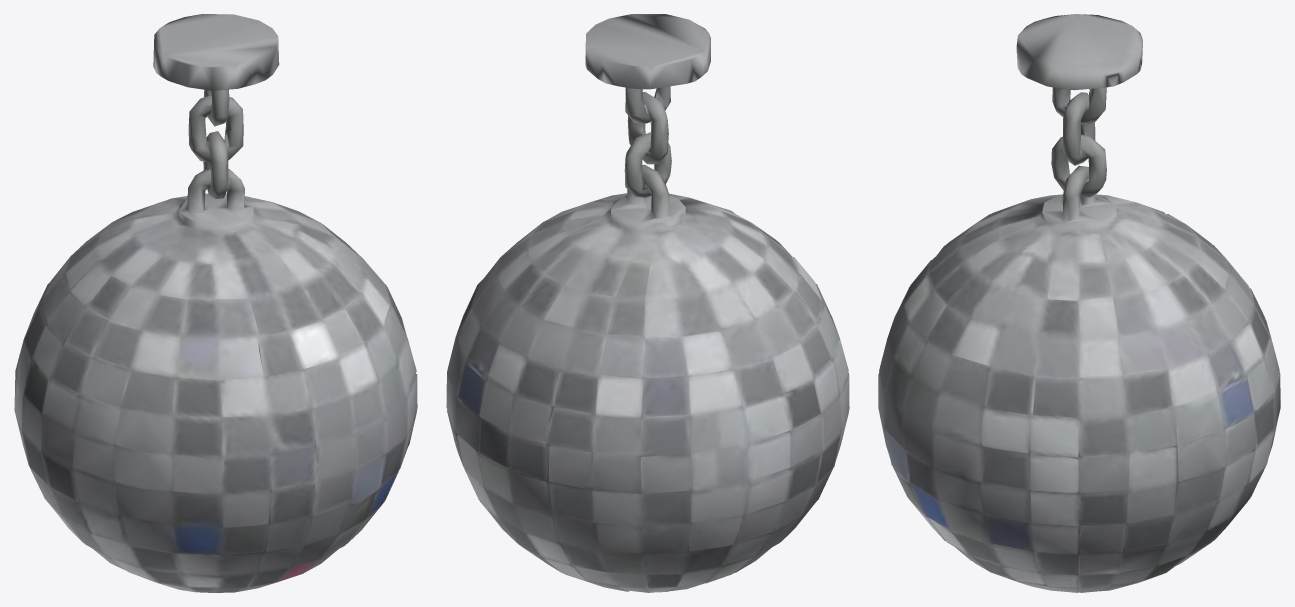
The model's file is disco.glb.
The picture shows the model from 3 angles, left to right: view 1: azimuth 30°, elevation 25°; view 2: azimuth 150°, elevation 25°; view 3: azimuth 270°, elevation 25°; orthographic projection.
Parts seen in each view (by area): view 1: tripo_node_3084397b-2f51-4864-bae0-e0c9825eadfb; view 2: tripo_node_3084397b-2f51-4864-bae0-e0c9825eadfb; view 3: tripo_node_3084397b-2f51-4864-bae0-e0c9825eadfb.
Boxes of the visible parts, x1,y1,x2,y2 form: tripo_node_3084397b-2f51-4864-bae0-e0c9825eadfb: (14, 14, 417, 592); tripo_node_3084397b-2f51-4864-bae0-e0c9825eadfb: (446, 14, 849, 592); tripo_node_3084397b-2f51-4864-bae0-e0c9825eadfb: (878, 14, 1280, 592).
Bounding box in the file's own units: 0.6705 × 0.9807 × 0.671.
Materials: 1 (1 with a texture image).
